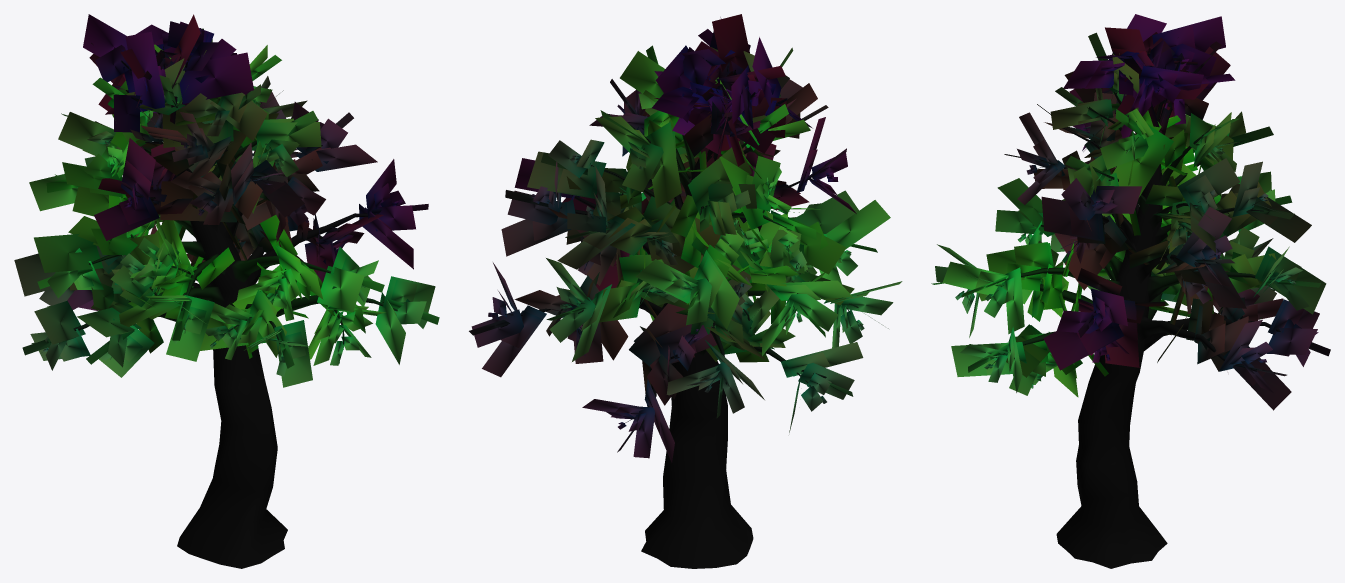
File: Tree_Cherry.FBX
3 views of the same model, side by side, from view 1: azimuth 30°, elevation 25°; view 2: azimuth 150°, elevation 25°; view 3: azimuth 270°, elevation 25° (orthographic). The views are drawn at different scales.
Parts seen in each view (by area): view 1: Tree_0; view 2: Tree_0; view 3: Tree_0.
Part boxes in pixels (x1,y1,x2,y2): Tree_0: (14, 14, 439, 568); Tree_0: (469, 14, 902, 568); Tree_0: (931, 14, 1330, 568).
Bounding box in the file's own units: 157 × 220 × 159.
